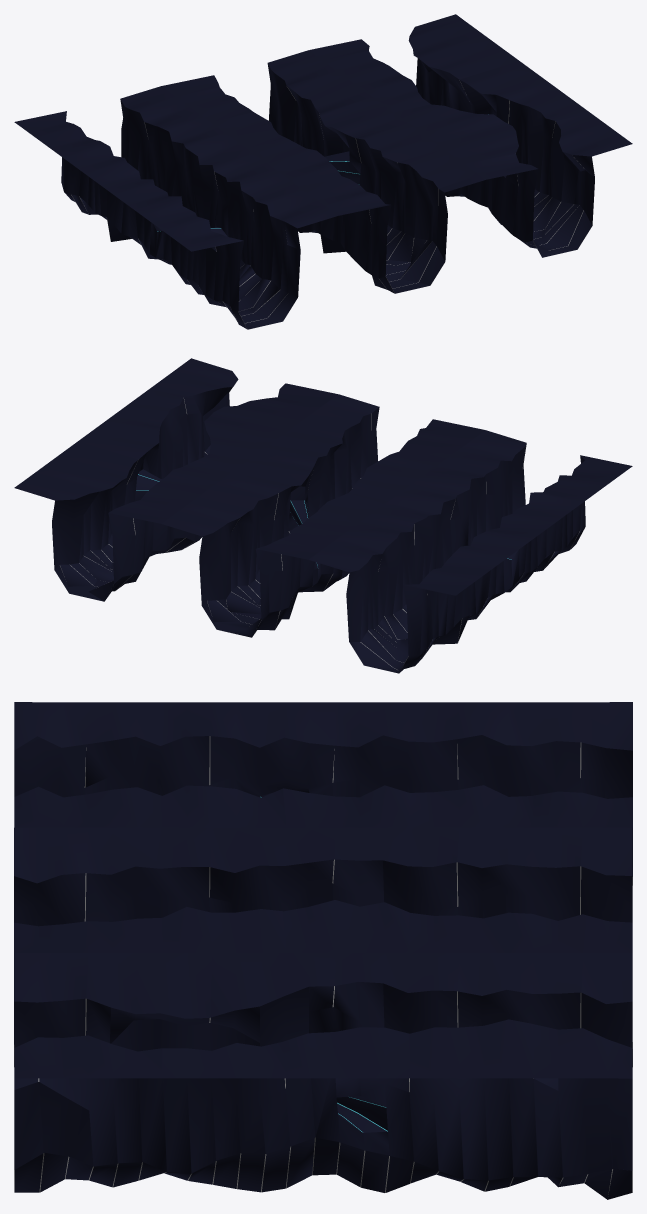
Rendered from middlebar.FBX.
3 views of the same model, one above another, from view 1: azimuth 30°, elevation 25°; view 2: azimuth 150°, elevation 25°; view 3: azimuth 270°, elevation 25° (orthographic). The views are drawn at different scales.
Parts seen in each view (by area): view 1: middlebar003, middlebar001, middlebar002; view 2: middlebar003, middlebar002, middlebar001; view 3: middlebar002, middlebar001, middlebar003.
Part boxes in pixels (left/top/right/bottom): middlebar003: left=14, top=86, right=337, bottom=329; middlebar001: left=161, top=50, right=485, bottom=293; middlebar002: left=309, top=14, right=632, bottom=257; middlebar003: left=309, top=430, right=632, bottom=673; middlebar002: left=14, top=358, right=337, bottom=601; middlebar001: left=161, top=394, right=485, bottom=637; middlebar002: left=14, top=953, right=632, bottom=1199; middlebar001: left=14, top=827, right=632, bottom=1066; middlebar003: left=14, top=702, right=632, bottom=885.
Size of the model in its own units: 4.57 by 0.9882 by 3.18.
